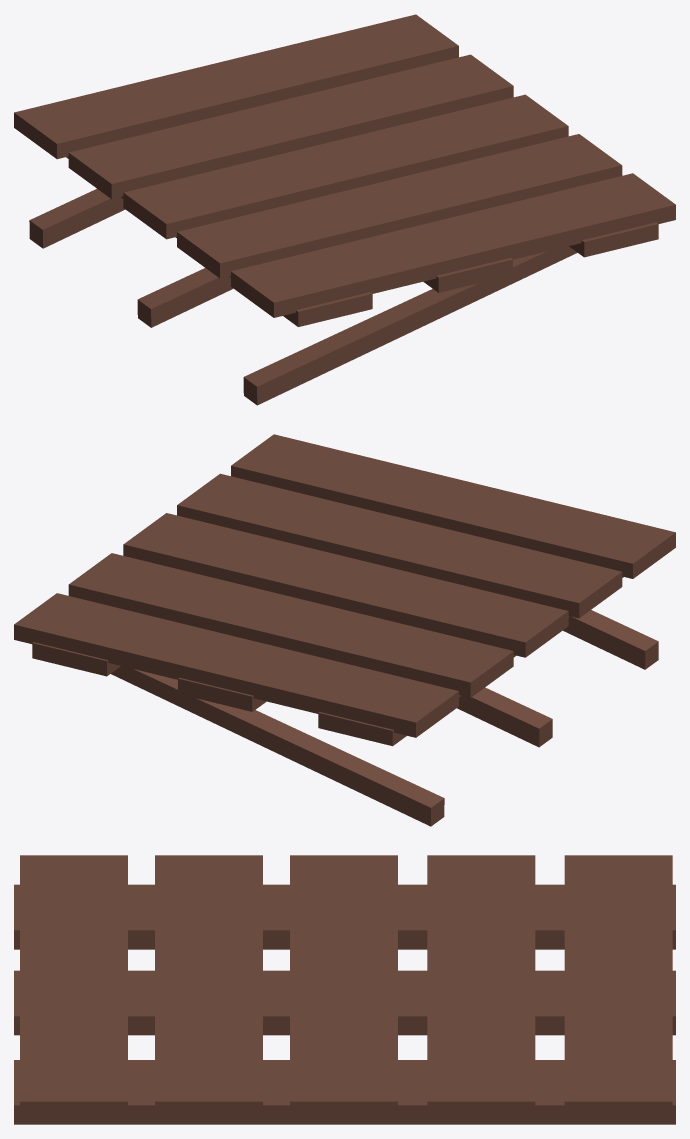
Rendered from woodPlatform.fbx.
3 renders of one model, top to bottom at view 1: azimuth 30°, elevation 25°; view 2: azimuth 150°, elevation 25°; view 3: azimuth 270°, elevation 25°, orthographic. The views are drawn at different scales.
Visible parts, largest first — view 1: Cube.001; view 2: Cube.001; view 3: Cube.001.
Boxes of the visible parts, x1,y1,x2,y2 form: Cube.001: (14,14,675,405); Cube.001: (14,434,675,826); Cube.001: (14,855,675,1124).
Bounding box in the file's own units: 747 × 205 × 848.
